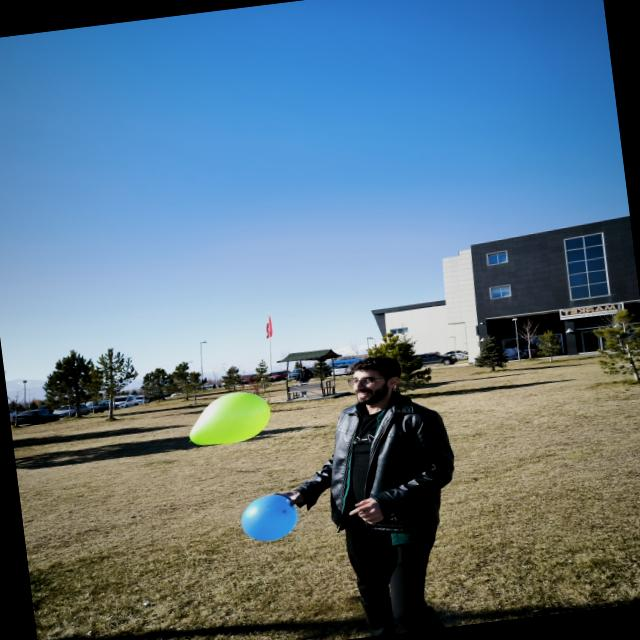balloon: (190, 392, 270, 444), (241, 494, 297, 540)
